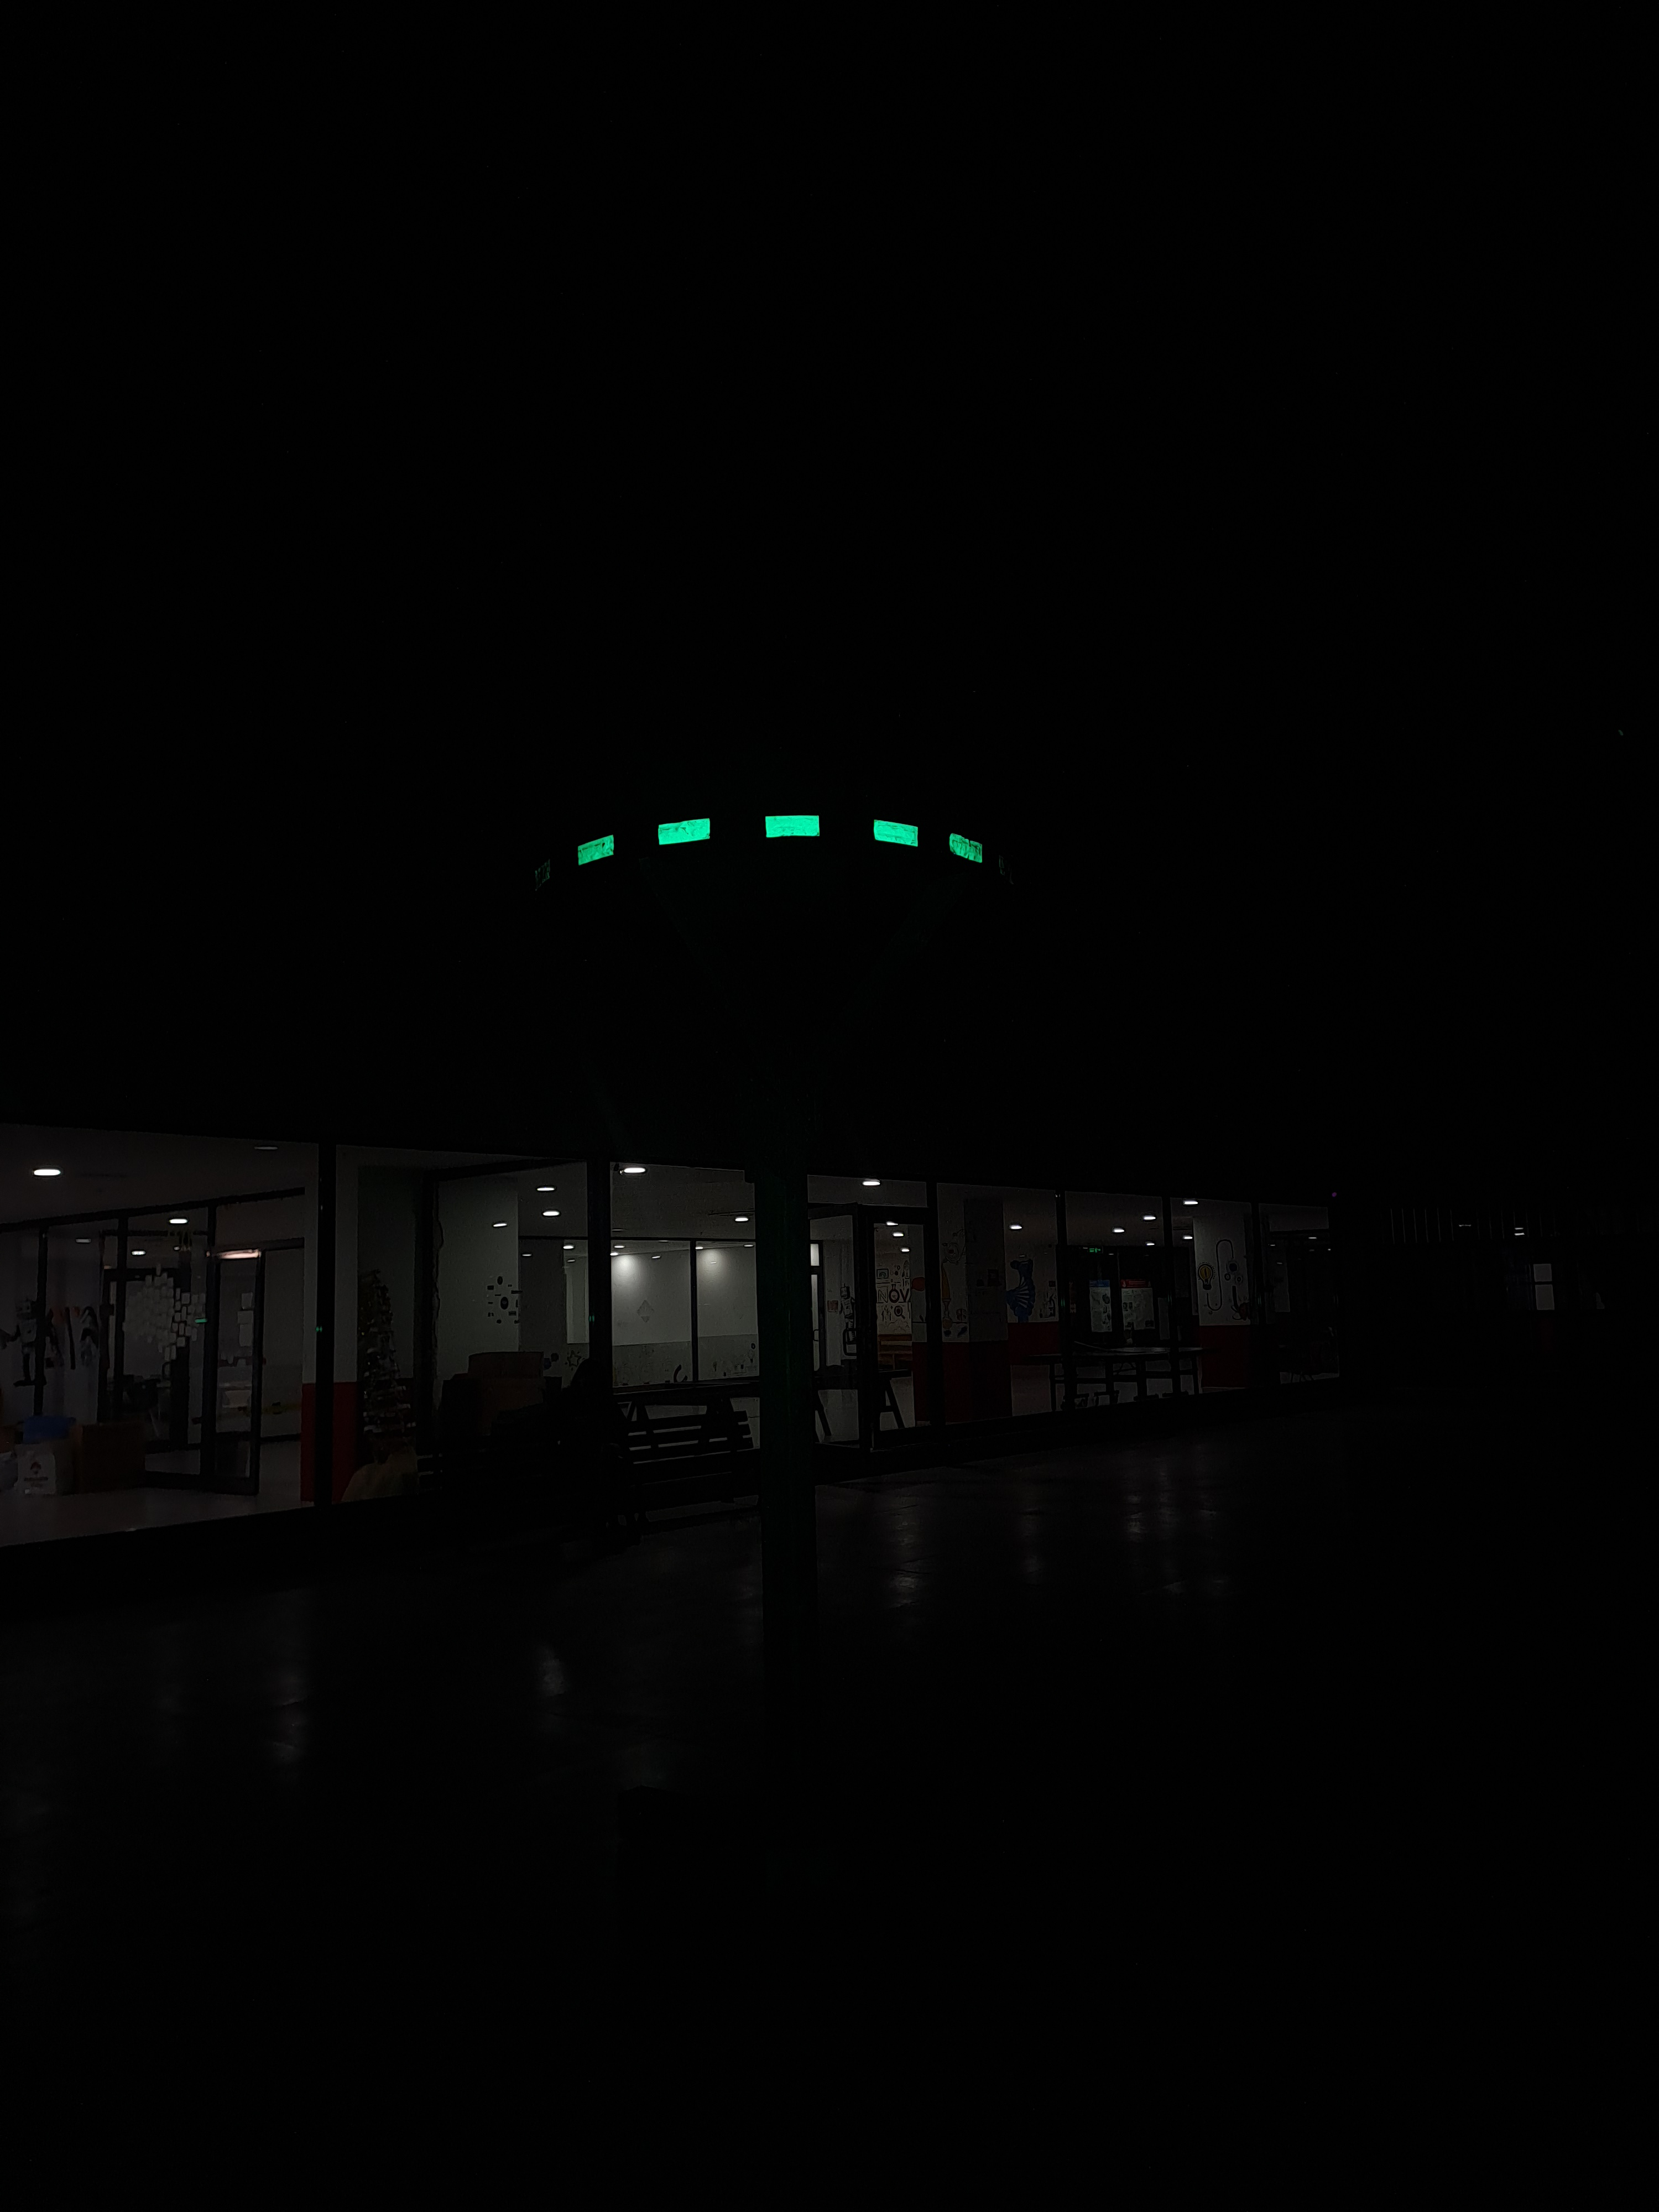hoop: (572, 812, 992, 881)
